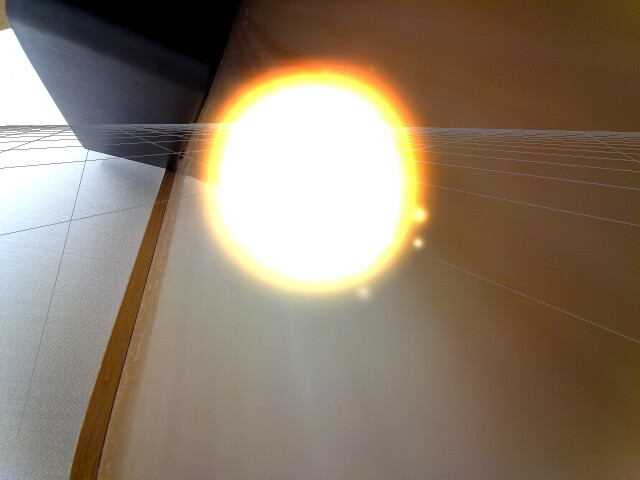fire: (199, 66, 421, 296)
